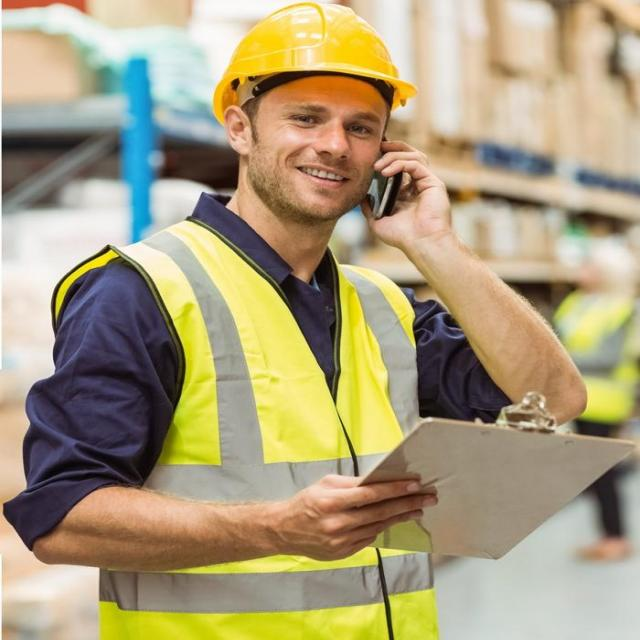Reflective-Jacket: (70, 216, 444, 640)
Safety-Helmet: (205, 1, 418, 116)
